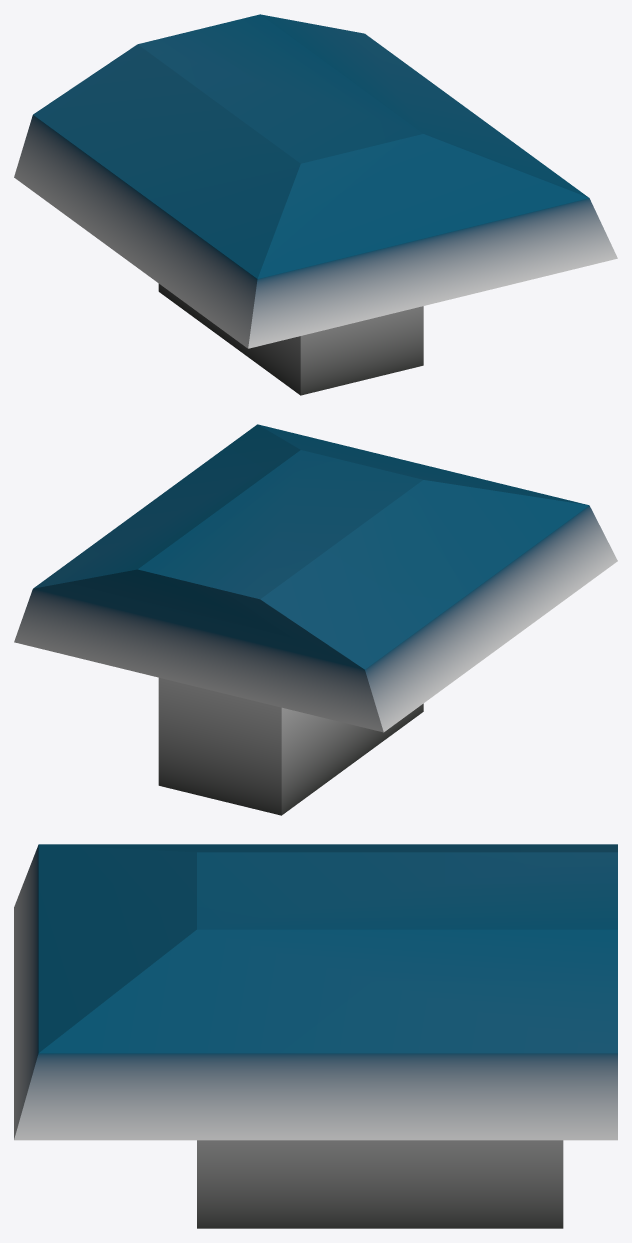
The model's file is lifthouse.dae.
3 renders of one model, top to bottom at view 1: azimuth 30°, elevation 25°; view 2: azimuth 150°, elevation 25°; view 3: azimuth 270°, elevation 25°, orthographic. The views are drawn at different scales.
Visible parts, largest first — view 1: Cube; view 2: Cube; view 3: Cube.
Boxes of the visible parts, x1,y1,x2,y2 form: Cube: (14,14,617,395); Cube: (14,424,617,815); Cube: (14,844,617,1228).
Bounding box in the file's own units: 9.16 × 10.05 × 5.49.
